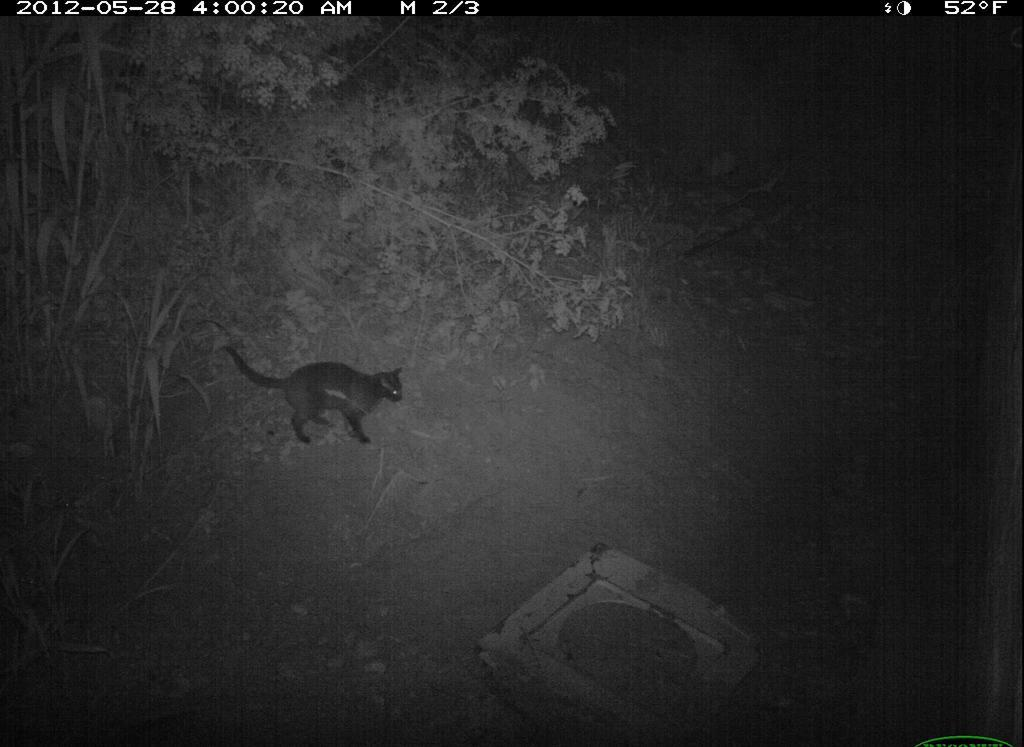cat: (213, 327, 425, 466)
